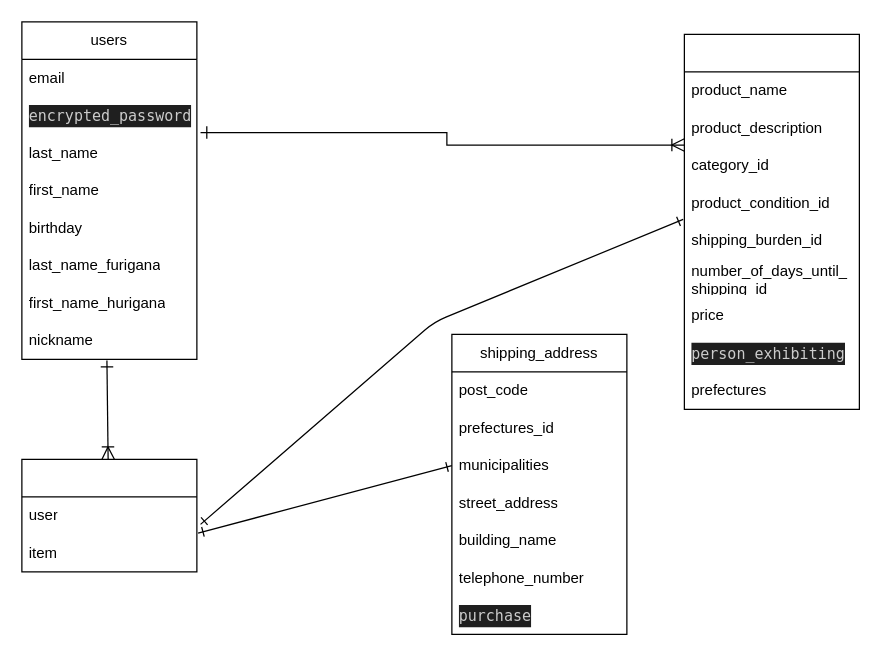
The diagram is 881 pixels wide and 656 high, and some of its shapes have lost their labels. The shapes that lost their labels are listed below. From the top down, each one's box as (x1, y1, x2, y2) in pixels, then its label:
(683, 33, 859, 409): items
(21, 458, 197, 572): purchases
